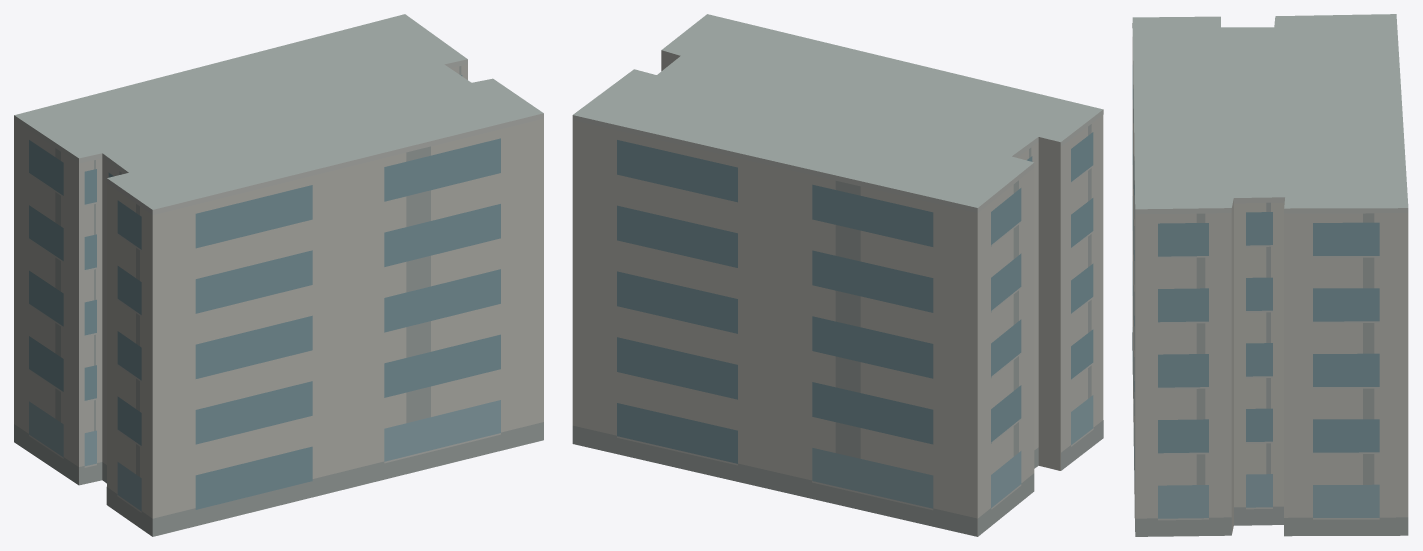
File: survey-upis-32925423.glb
The picture shows the model from 3 angles, left to right: view 1: azimuth 30°, elevation 25°; view 2: azimuth 150°, elevation 25°; view 3: azimuth 270°, elevation 25°; orthographic projection.
Parts seen in each view (by area): view 1: survey-upis-32925423.tmp; view 2: survey-upis-32925423.tmp; view 3: survey-upis-32925423.tmp.
Part boxes in pixels (x1,y1,x2,y2): survey-upis-32925423.tmp: (14, 14, 543, 536); survey-upis-32925423.tmp: (572, 14, 1103, 536); survey-upis-32925423.tmp: (1132, 14, 1408, 536).
Bounding box in the file's own units: 19.44 × 15.2 × 11.61.
